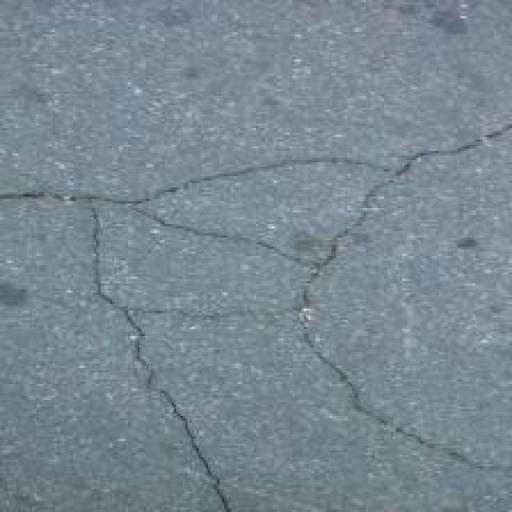moderate crack: (404, 126, 512, 212), (16, 182, 162, 225), (172, 218, 300, 264)
severe crack: (308, 243, 499, 488), (97, 290, 254, 512)
